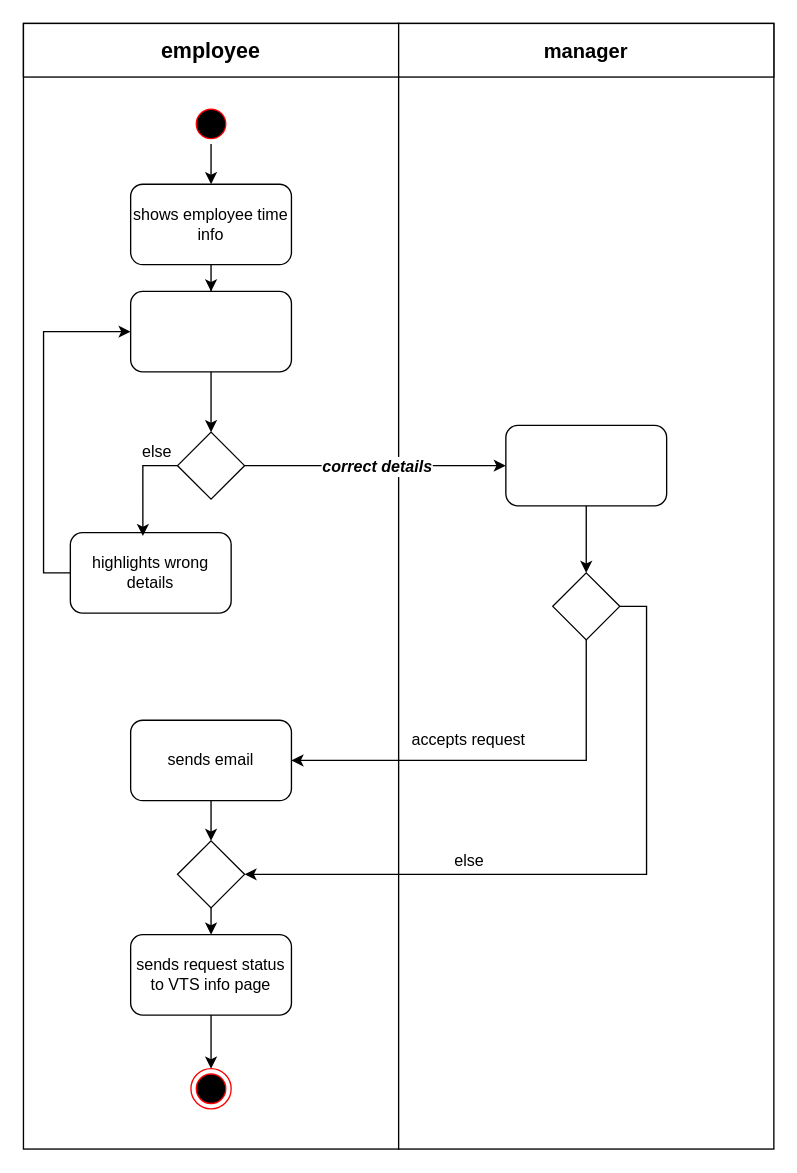
The diagram is 797 pixels wide and 1173 high, and some of its shapes have lost their labels. Here are the shapes that lost their labels. From the top down, the centre of each, then its label:
point 210,331: employee puts time off details
point 586,465: manager view & process requests
